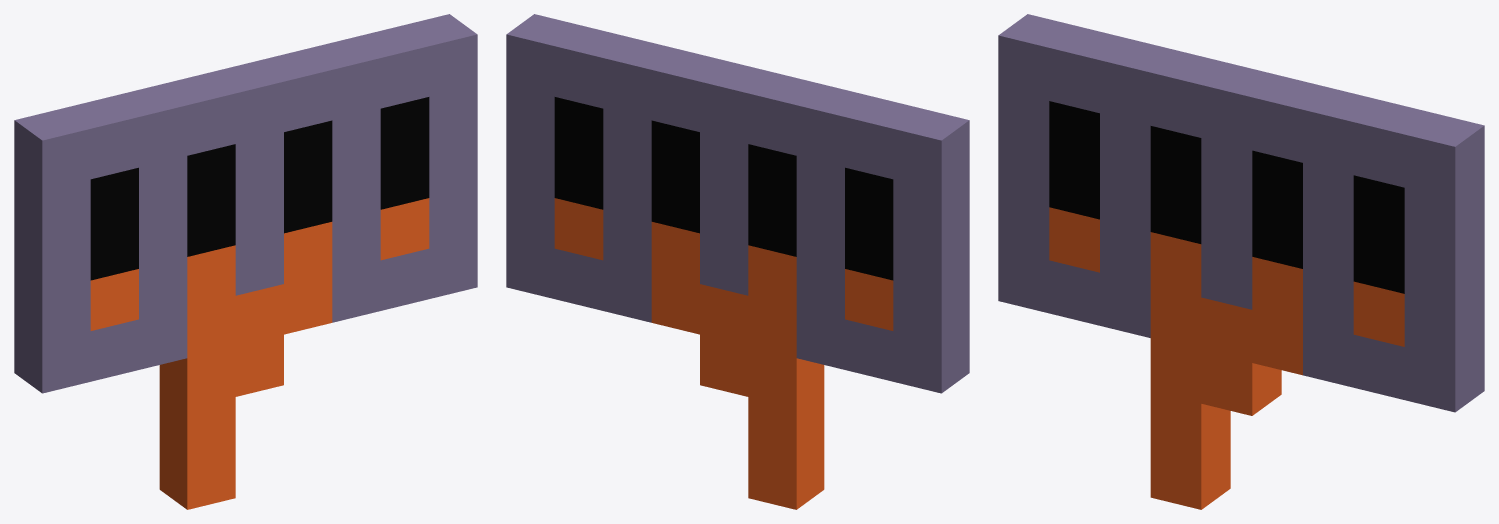
Rendered from wall_grate_a_leaking_lava.obj.
The picture shows the model from 3 angles, left to right: view 1: azimuth 30°, elevation 25°; view 2: azimuth 150°, elevation 25°; view 3: azimuth 330°, elevation 25°; orthographic projection. The views are drawn at different scales.
Size of the model in its own units: 0.9 by 0.8 by 0.1.
Materials: 1 (1 with a texture image).
